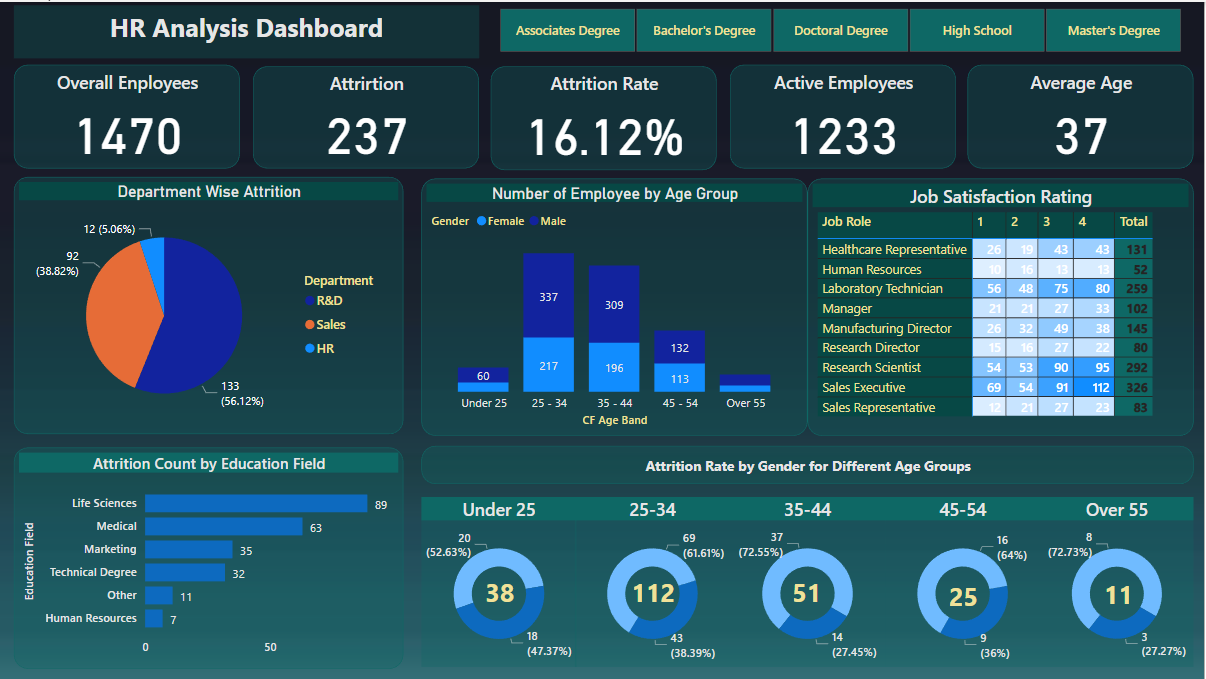

What the dashboard file says about the page in this screenshot:
{"tool":"powerbi","page":{"name":"Page 1","canvas":[1280,720],"ordinal":0},"visuals":[{"type":"card","title":"Overall Enployees","fields":{"Values":["Sum(HR data.Employee Count)"]},"box":[15.1,67.3,240.2,110.5],"z":0},{"type":"card","title":"Attrirtion","fields":{"Values":["Sum(HR data.Attrirtion Count)"]},"box":[269.3,69,240.2,108.7],"z":1000},{"type":"card","title":"Attrition Rate","fields":{"Values":["HR data.Attrition Rate"]},"box":[521.8,69,240.2,110.5],"z":2000},{"type":"card","title":"Active Employees","fields":{"Values":["HR data.Active Employees"]},"box":[776.1,67.3,240.2,110.5],"z":3000},{"type":"card","title":"Average Age","fields":{"Values":["Avg(HR data.Age)"]},"box":[1028.6,67.3,240.2,110.5],"z":4000},{"type":"pieChart","title":"Department Wise Attrition","fields":{"Category":["HR data.Department"],"Y":["Sum(HR data.Attrition Count)"]},"box":[15.8,185.9,413.8,273.5],"z":5000},{"type":"columnChart","title":"Number of Employee by Age Group","fields":{"Category":["HR data.CF_age band"],"Y":["Sum(HR data.Employee Count)"],"Series":["HR data.Gender"]},"box":[449.2,188.1,410.3,273.5],"z":6000},{"type":"pivotTable","title":"Job Satisfaction Rating","fields":{"Rows":["HR data.Job Role"],"Columns":["HR data.Job Satisfaction"],"Values":["Sum(HR data.Employee Count)"]},"box":[859.6,188.1,410.3,273.5],"z":7000},{"type":"clusteredBarChart","title":"Attrition Count by Education Field","fields":{"Category":["HR data.Education Field"],"Y":["Sum(HR data.Attrition Count)"]},"box":[15.8,473.4,413.8,235],"z":8000},{"type":"donutChart","title":"Under 25","fields":{"Category":["HR data.Gender"],"Y":["Sum(HR data.Attrition Count)"],"Series":["HR data.CF_age band"]},"box":[449.2,526.5,164.8,180.6],"z":9000},{"type":"textbox","box":[449.2,472.1,820.6,40.3],"z":10000},{"type":"donutChart","title":"25-34","fields":{"Category":["HR data.Gender"],"Y":["Sum(HR data.Attrition Count)"],"Series":["HR data.CF_age band"]},"box":[612.3,526.5,164.8,180.6],"z":11000},{"type":"donutChart","title":"35-44","fields":{"Category":["HR data.Gender"],"Y":["Sum(HR data.Attrition Count)"],"Series":["HR data.CF_age band"]},"box":[777.1,526.5,164.8,180.6],"z":12000},{"type":"donutChart","title":"45-54","fields":{"Category":["HR data.Gender"],"Y":["Sum(HR data.Attrition Count)"],"Series":["HR data.CF_age band"]},"box":[942,526.5,164.8,180.6],"z":13000},{"type":"donutChart","title":"Over 55","fields":{"Category":["HR data.Gender"],"Y":["Sum(HR data.Attrition Count)"],"Series":["HR data.CF_age band"]},"box":[1106.8,526.5,163.1,180.6],"z":14000},{"type":"card","fields":{"Values":["Sum(HR data.Attrition Count)"]},"box":[507.1,603.7,50.8,50.8],"z":15000},{"type":"card","fields":{"Values":["Sum(HR data.Attrition Count)"]},"box":[663.2,603.7,64.9,50.8],"z":16000},{"type":"card","fields":{"Values":["Sum(HR data.Attrition Count)"]},"box":[833.2,603.7,50.8,50.8],"z":17000},{"type":"card","fields":{"Values":["Sum(HR data.Attrition Count)"]},"box":[999.8,607.2,50.8,50.8],"z":18000},{"type":"card","fields":{"Values":["Sum(HR data.Attrition Count)"]},"box":[1164.6,605.4,50.8,50.8],"z":19000},{"type":"textbox","box":[15.8,3.5,494.5,56.1],"z":19001},{"type":"slicer","fields":{"Values":["HR data.Education"]},"box":[506.7,0,773.3,59.6],"z":19002}]}

Visuals, with their boxes in screenshot pixels (x1, y1, x2, y2), scaled from the page's 1280x720 canvas onto the 1206x679 screenshot:
"Overall Enployees" card: 14, 63, 241, 168
"Attrirtion" card: 254, 65, 480, 168
"Attrition Rate" card: 492, 65, 718, 169
"Active Employees" card: 731, 63, 958, 168
"Average Age" card: 969, 63, 1195, 168
"Department Wise Attrition" pieChart: 15, 175, 405, 433
"Number of Employee by Age Group" columnChart: 423, 177, 810, 435
"Job Satisfaction Rating" pivotTable: 810, 177, 1196, 435
"Attrition Count by Education Field" clusteredBarChart: 15, 446, 405, 668
"Under 25" donutChart: 423, 497, 579, 667
textbox: 423, 445, 1196, 483
"25-34" donutChart: 577, 497, 732, 667
"35-44" donutChart: 732, 497, 887, 667
"45-54" donutChart: 888, 497, 1043, 667
"Over 55" donutChart: 1043, 497, 1196, 667
card - Sum(HR data.Attrition Count): 478, 569, 526, 617
card - Sum(HR data.Attrition Count): 625, 569, 686, 617
card - Sum(HR data.Attrition Count): 785, 569, 833, 617
card - Sum(HR data.Attrition Count): 942, 573, 990, 621
card - Sum(HR data.Attrition Count): 1097, 571, 1145, 619
textbox: 15, 3, 481, 56
slicer - HR data.Education: 477, 0, 1205, 56
